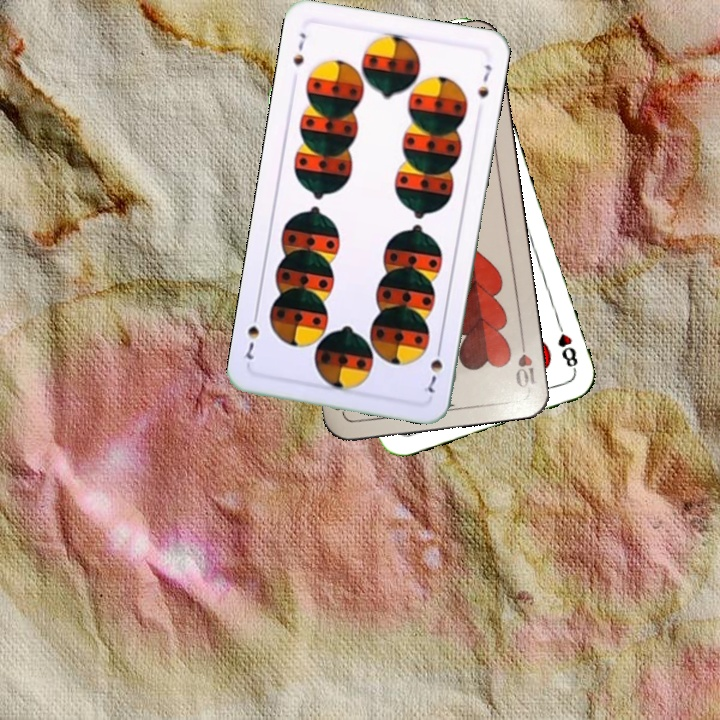H10: (511, 332, 539, 391)
H8: (552, 316, 581, 374)
S7: (424, 340, 445, 396), (288, 28, 309, 69)
